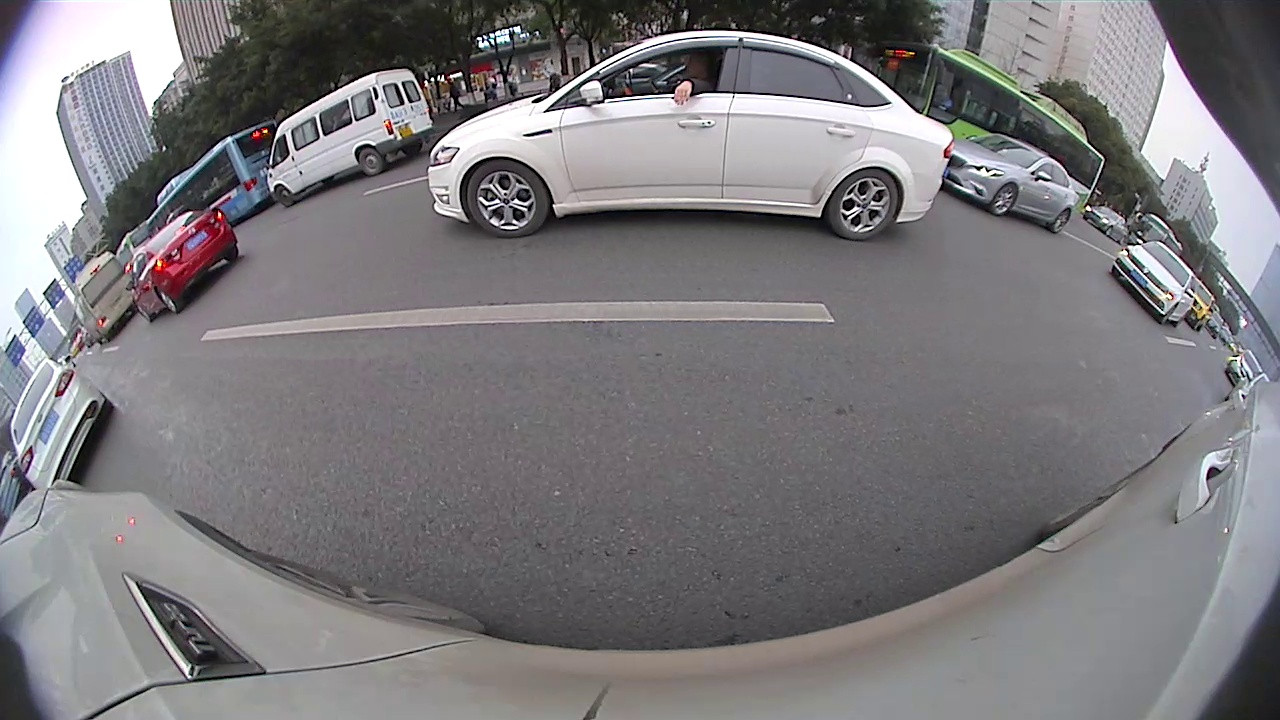bus: (845, 40, 1105, 206), (148, 121, 279, 241), (76, 251, 135, 341)
car: (430, 32, 946, 240), (269, 67, 431, 206), (10, 359, 111, 491), (945, 135, 1078, 235), (133, 209, 238, 320), (1114, 242, 1193, 324)
front: (467, 159, 545, 238), (991, 184, 1017, 214), (272, 185, 292, 206)
rear: (827, 169, 900, 239), (358, 147, 382, 174), (156, 288, 181, 313), (1050, 209, 1071, 232)
